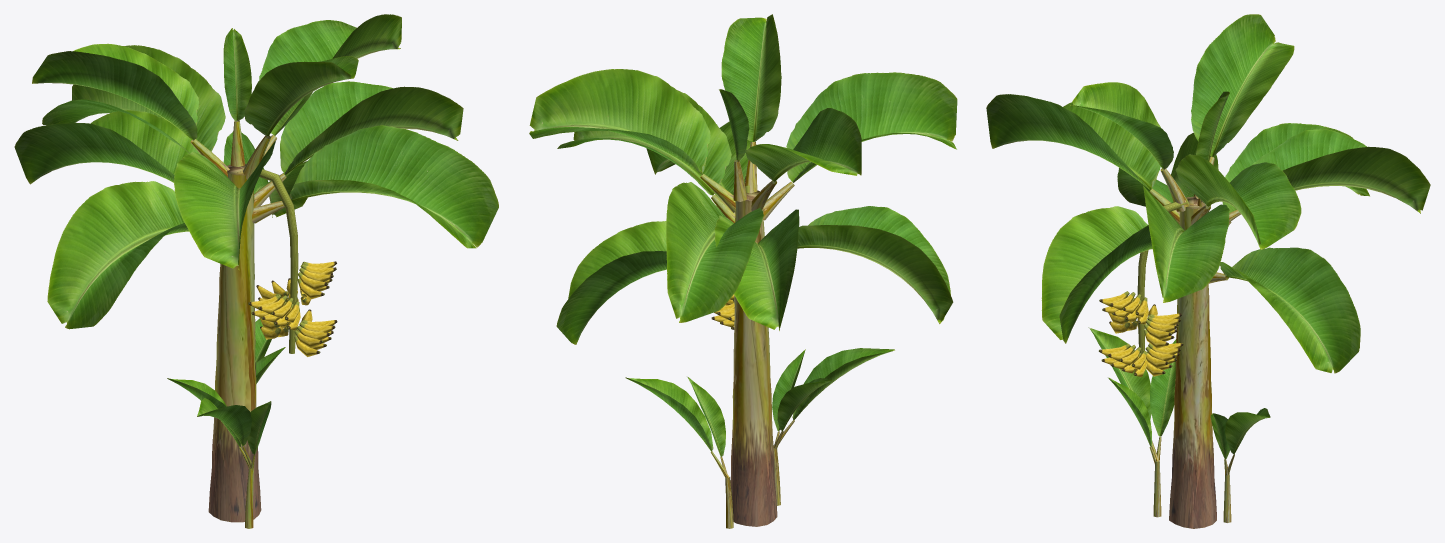
Rendered from BananaTree_B_Ripe.fbx.
3 views of the same model, side by side, from view 1: azimuth 30°, elevation 25°; view 2: azimuth 150°, elevation 25°; view 3: azimuth 270°, elevation 25° (orthographic). The views are drawn at different scales.
Parts seen in each view (by area): view 1: BananaTree_B_Ripe_LOD0; view 2: BananaTree_B_Ripe_LOD0; view 3: BananaTree_B_Ripe_LOD0.
Boxes of the visible parts, <box> form: BananaTree_B_Ripe_LOD0: <box>14,14,498,528</box>; BananaTree_B_Ripe_LOD0: <box>529,14,957,528</box>; BananaTree_B_Ripe_LOD0: <box>986,14,1430,528</box>.
Size of what is drawn, in the model's own units: 3.29 by 3.71 by 3.33.
